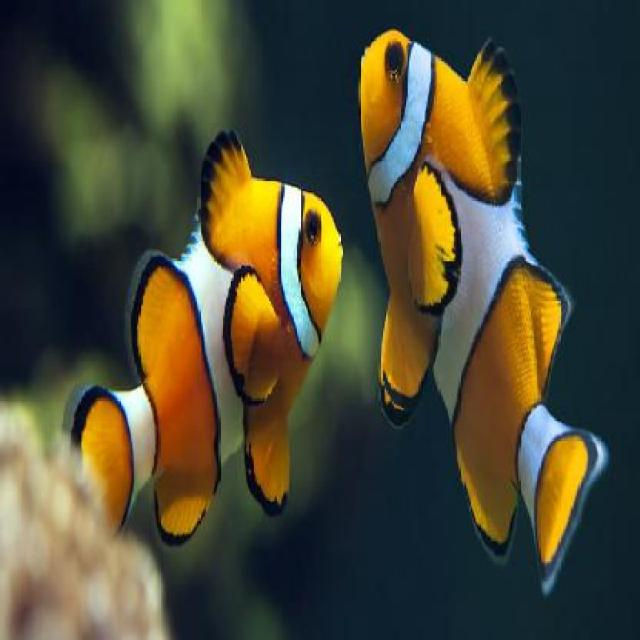ClownFish: (356, 29, 610, 580), (74, 131, 340, 549)
